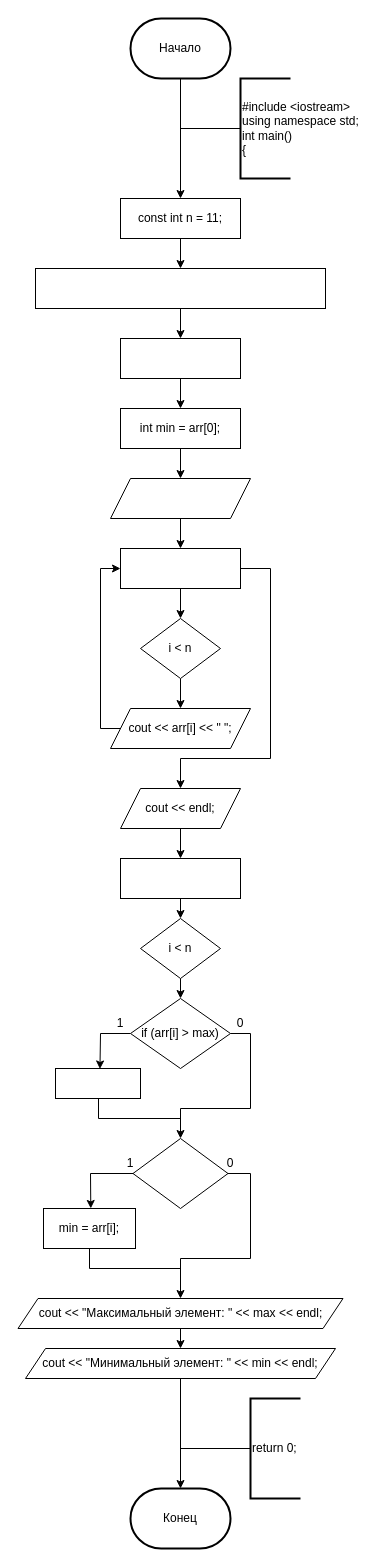
Some shapes in this 376 by 1566 pixel diagram are drawn without their labels. The centre of each missing label's shape, as x and y in pixels:
cout << "Массив: ";: [180,498]
if (arr[i] < min): [180,1173]
int arr[n] = {41, 42, 66, 87, 86, 38, 77, 84, 45, 35, 22};: [180,288]
int i = 0;: [180,568]
int i = 1;: [180,878]
int max = arr[0];: [180,358]
max = arr[i];: [97,1083]
